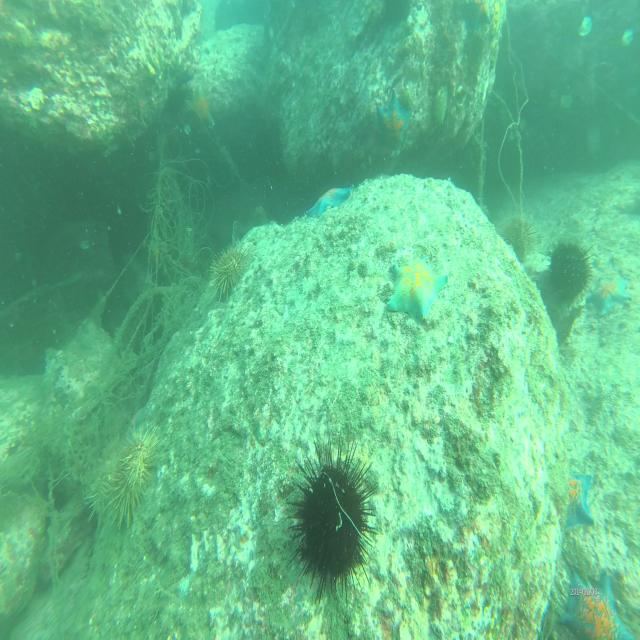echinus: (291, 456, 374, 586), (550, 239, 592, 303), (105, 462, 143, 530), (211, 245, 253, 300), (120, 430, 160, 486), (90, 461, 118, 522), (503, 216, 537, 261)
starfish: (390, 256, 446, 324), (568, 572, 617, 629), (378, 94, 414, 150), (564, 468, 594, 532), (588, 275, 630, 320), (306, 183, 352, 220), (188, 86, 218, 134)
